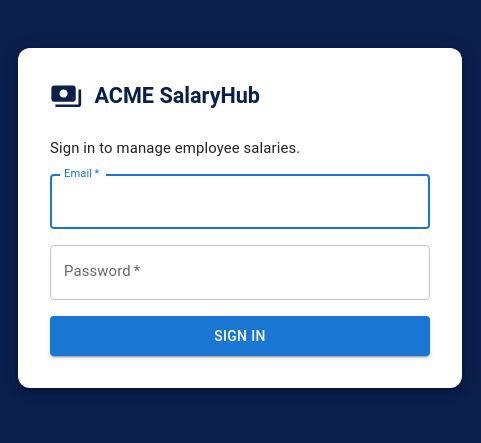
Test case: when signed out › shows a clear message for wrong credentials and stays on the login page
Step 1. Type "hr@acme.example" into the field labelled "Email *" → (240, 202), box [50,175,430,229]
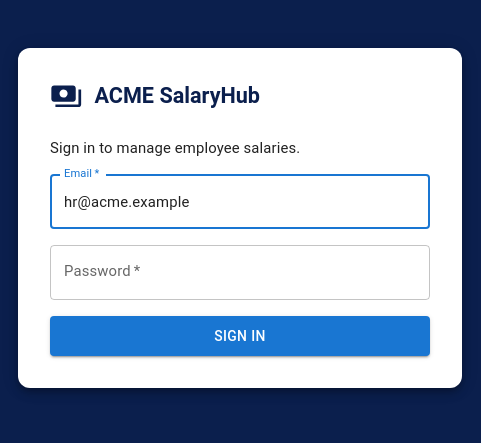
Step 2. Type "nope" into the password field labelled "Password *" → (240, 272), box [50,245,430,300]
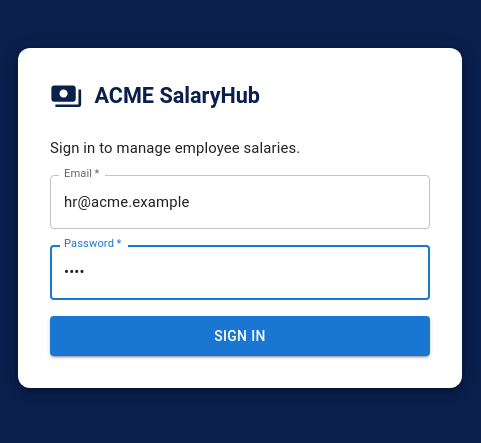
Step 3. Click the button "Sign in" → (240, 336), box [50,316,430,356]
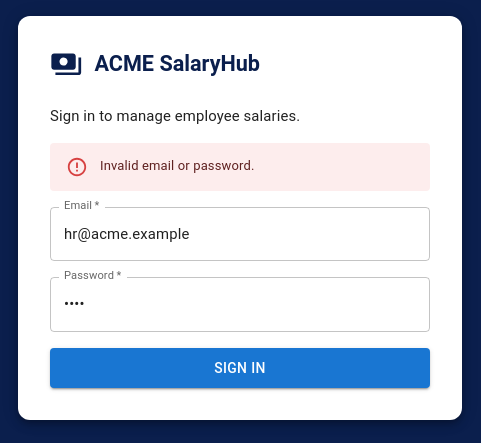
Now the text "Invalid email or password." is shown, box [100,158,254,173]
